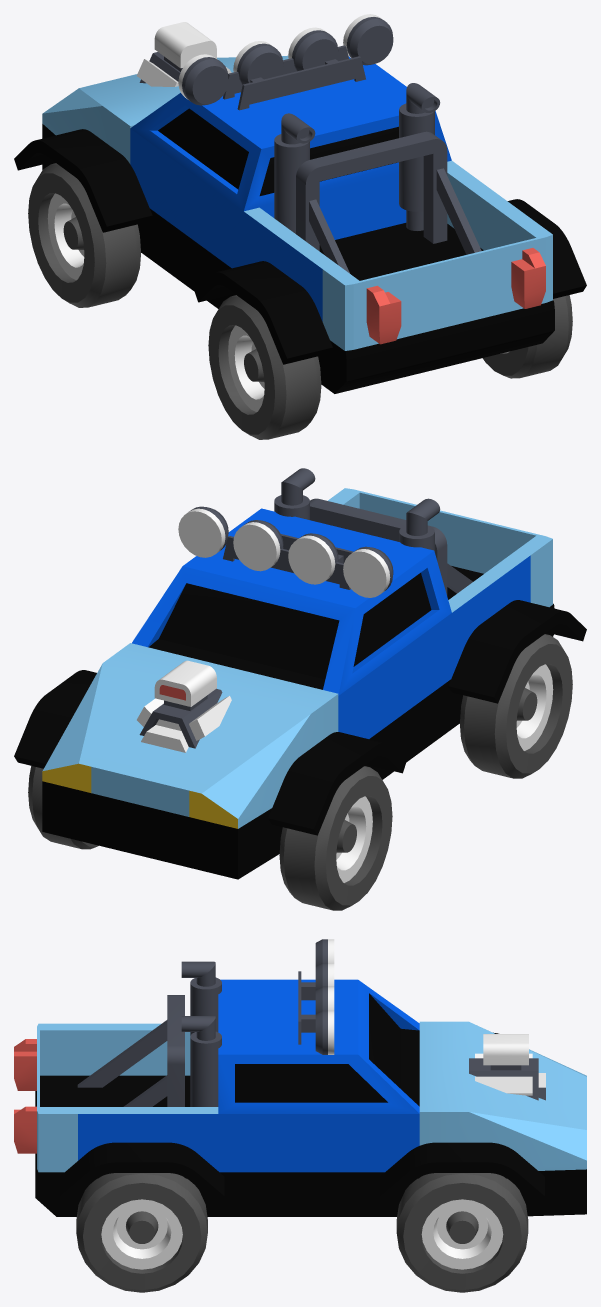
The model's file is Pick Up Truck.fbx.
The picture shows the model from 3 angles, top to bottom: view 1: azimuth 30°, elevation 25°; view 2: azimuth 150°, elevation 25°; view 3: azimuth 270°, elevation 25°; orthographic projection. The views are drawn at different scales.
Parts seen in each view (by area): view 1: windshield_truck_582, trunk_bed_581, wheel_truck_585, wheel_truck_586, detail_rollbar_593, detail_roofLights%_589, detail_fenderRounded_597, detail_fenderRounded_596, hood_black_584, detail_roofDoubleRails%_590, detail_exhaustVertical_592, detail_exhaustVertical_591 (+5 smaller); view 2: windshield_truck_582, hood_black_584, wheel_truck_586, wheel_truck_585, detail_roofLights%_589, trunk_bed_581, detail_fenderRounded_596, detail_fenderRounded_597, detail_engine_598, detail_fenderRounded_594, detail_rollbar_593, detail_exhaustVertical_591 (+3 smaller); view 3: windshield_truck_582, hood_black_584, wheel_truck_588, wheel_truck_587, trunk_bed_581, detail_fenderRounded_595, detail_fenderRounded_594, detail_rollbar_593, detail_engine_598, detail_exhaustVertical_592, detail_roofLights%_589, detail_exhaustVertical_591 (+3 smaller).
Part boxes in pixels (box(x1,y1,x2,y2)): windshield_truck_582: box(130, 56, 530, 384); trunk_bed_581: box(322, 218, 554, 393); wheel_truck_585: box(28, 163, 140, 307); wheel_truck_586: box(208, 295, 321, 439); detail_rollbar_593: box(296, 131, 481, 273); detail_roofLights%_589: box(178, 14, 393, 105); detail_fenderRounded_597: box(194, 261, 332, 364); detail_fenderRounded_596: box(14, 129, 152, 232); hood_black_584: box(42, 55, 288, 169); detail_roofDoubleRails%_590: box(223, 45, 365, 110); detail_exhaustVertical_592: box(399, 83, 440, 230); detail_exhaustVertical_591: box(274, 113, 315, 233); windshield_truck_582: box(132, 508, 530, 779); hood_black_584: box(42, 643, 338, 879); wheel_truck_586: box(459, 634, 572, 778); wheel_truck_585: box(279, 766, 392, 910); detail_roofLights%_589: box(178, 506, 393, 597); trunk_bed_581: box(327, 488, 554, 636); detail_fenderRounded_596: box(268, 732, 406, 835); detail_fenderRounded_597: box(448, 600, 586, 703); detail_engine_598: box(137, 660, 231, 752); detail_fenderRounded_594: box(14, 670, 96, 768); detail_rollbar_593: box(310, 498, 472, 595); detail_exhaustVertical_591: box(399, 498, 440, 552); windshield_truck_582: box(78, 979, 419, 1216); hood_black_584: box(419, 1021, 586, 1216); wheel_truck_588: box(396, 1173, 528, 1292); wheel_truck_587: box(76, 1173, 207, 1292); trunk_bed_581: box(35, 1023, 77, 1216); detail_fenderRounded_595: box(59, 1142, 224, 1204); detail_fenderRounded_594: box(380, 1142, 544, 1204); detail_rollbar_593: box(77, 995, 184, 1106); detail_engine_598: box(469, 1034, 545, 1100); detail_exhaustVertical_592: box(181, 1016, 221, 1106); detail_roofLights%_589: box(315, 939, 334, 1054); detail_exhaustVertical_591: box(181, 961, 221, 1035).
Bounding box in the file's own units: 14.4 × 13.16 × 26.83.
